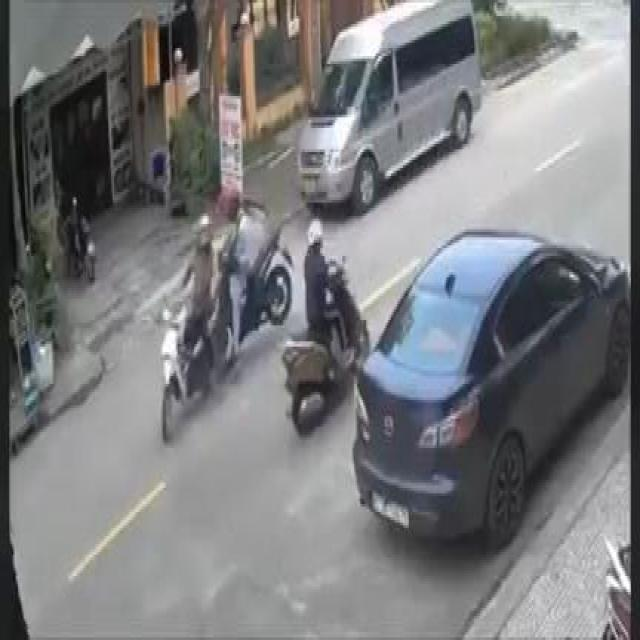accident: (158, 178, 296, 450)
